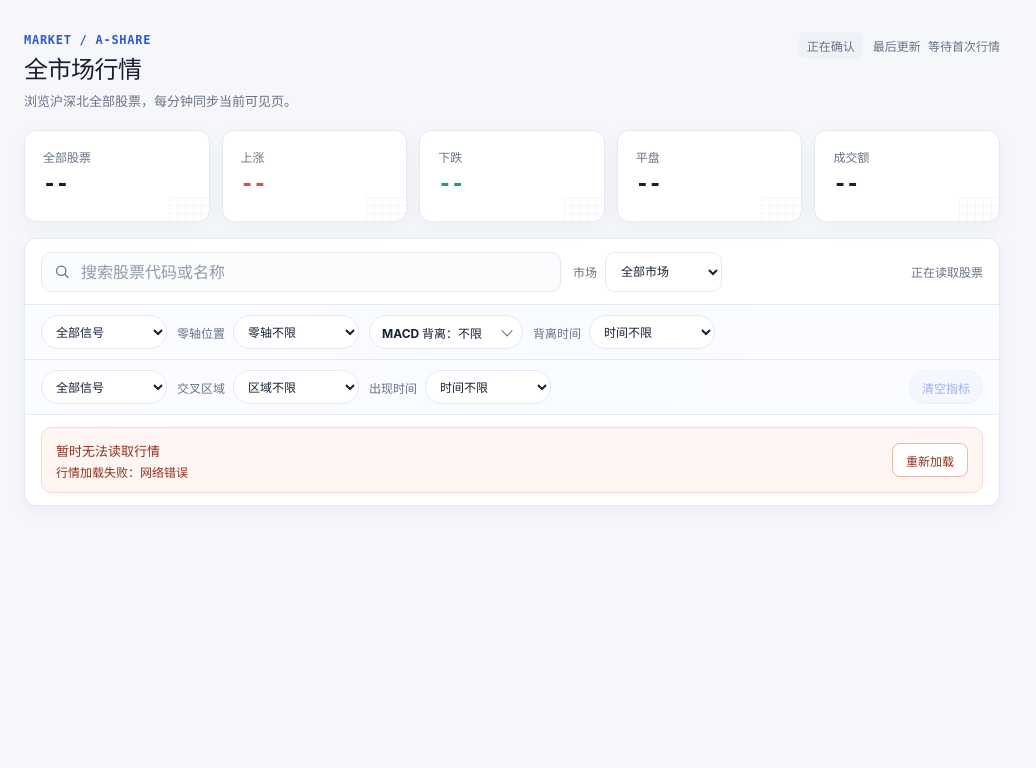
Scenario: 接口失败显示中文错误且可重新加载
This screenshot has width=1036, height=768.
Expected: the message shows "行情加载失败", [56,465,188,480]
Click the button "重新加载" at (930, 460), box [892,443,968,477]
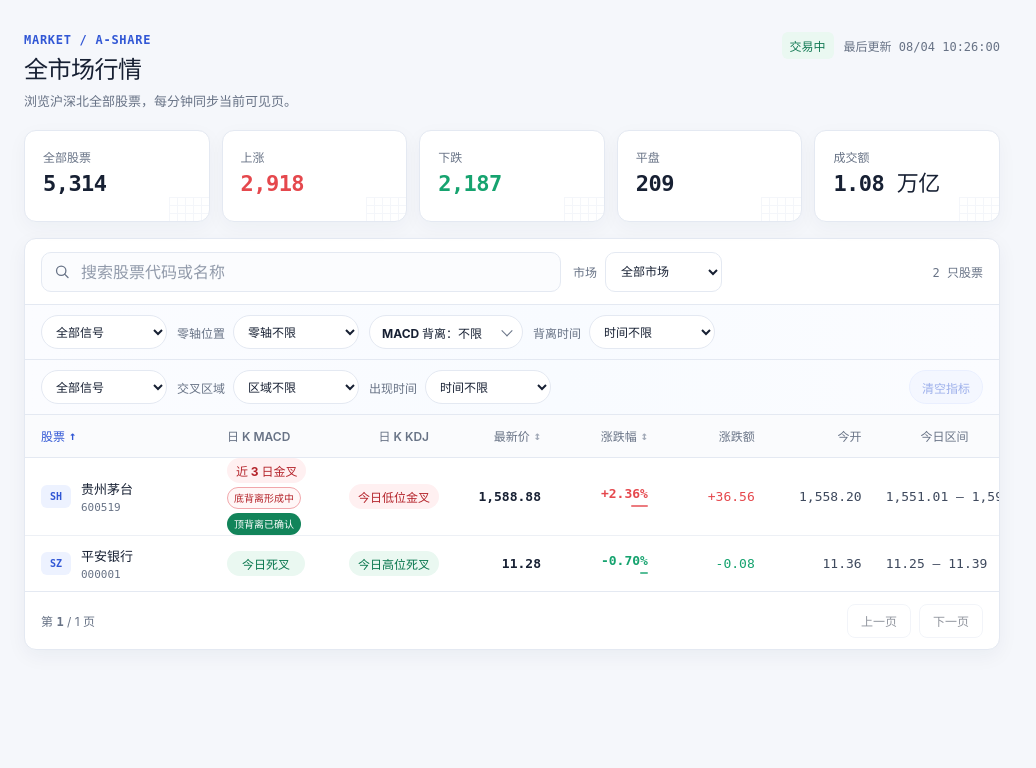
Expected: the row "贵州茅台" is shown, [25,457,999,535]
